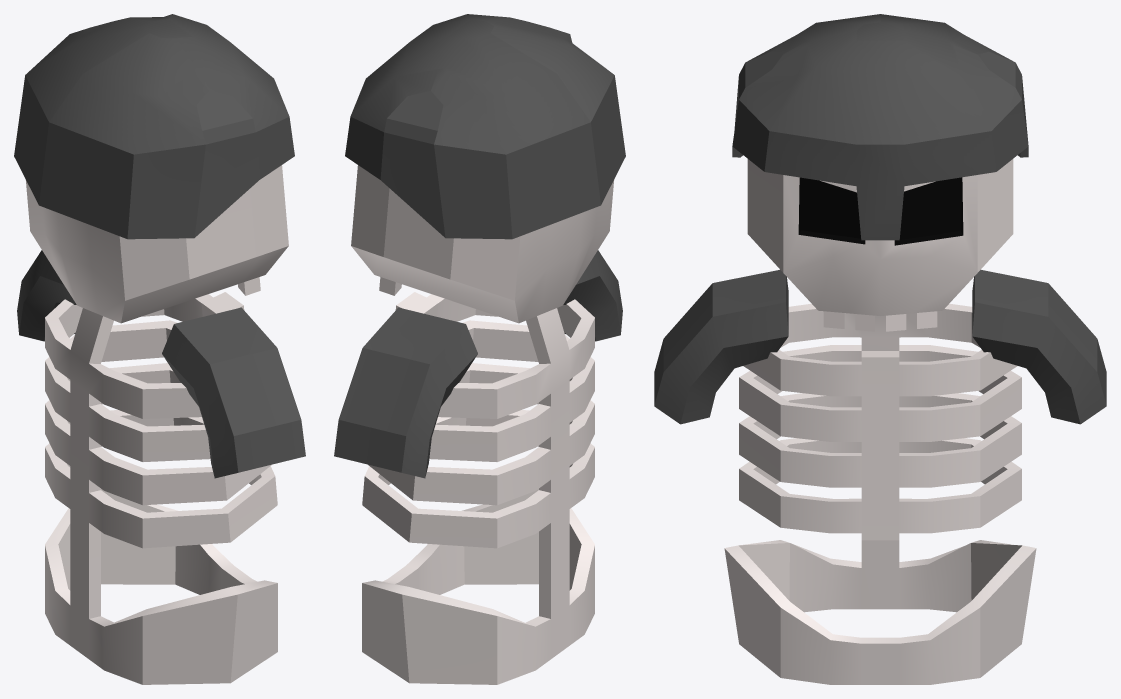
Rendered from Skeleton2.obj.
3 views of the same model, side by side, from view 1: azimuth 30°, elevation 25°; view 2: azimuth 150°, elevation 25°; view 3: azimuth 270°, elevation 25° (orthographic). The views are drawn at different scales.
Visible parts, largest first — view 1: Skeleton.002; view 2: Skeleton.002; view 3: Skeleton.002.
Part boxes in pixels (x1,y1,x2,y2): Skeleton.002: (14, 14, 305, 684); Skeleton.002: (334, 14, 625, 684); Skeleton.002: (654, 14, 1106, 684).
Bounding box in the file's own units: 1.93 × 4.81 × 3.2.
